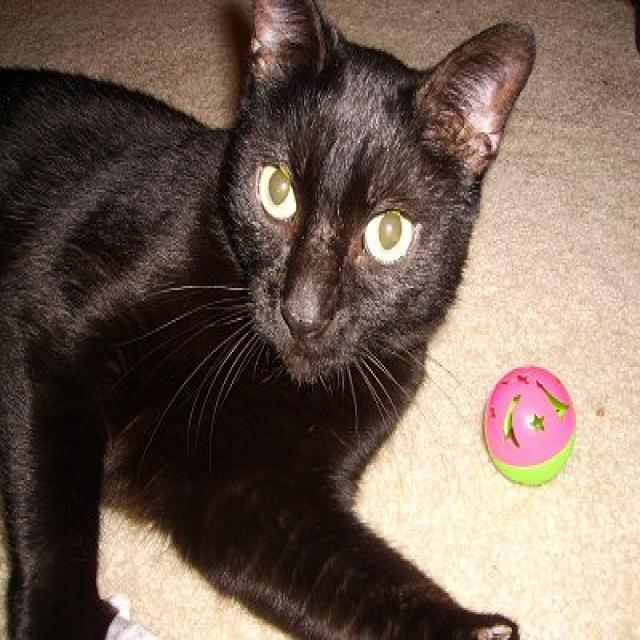Bombay: (224, 0, 544, 397)
